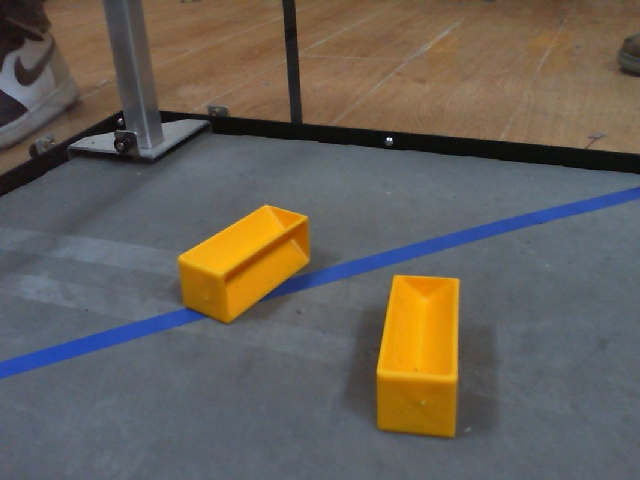YellowSample: (174, 202, 314, 326), (372, 271, 464, 441)
